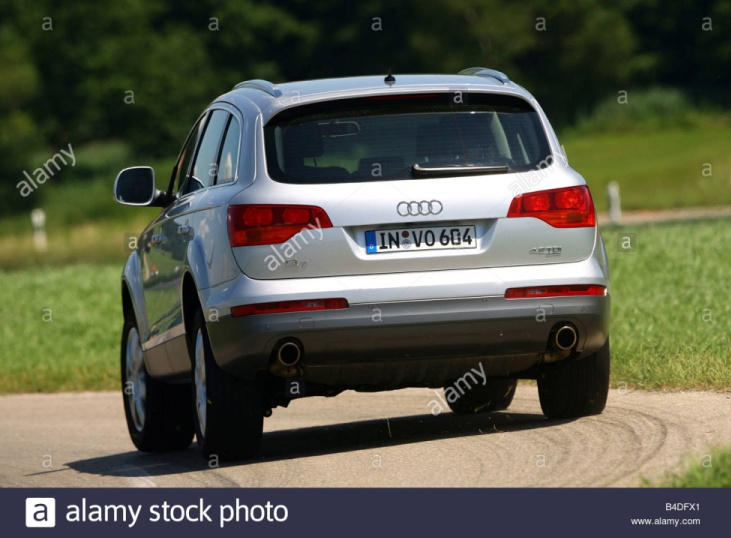audi: (396, 196, 446, 219)
